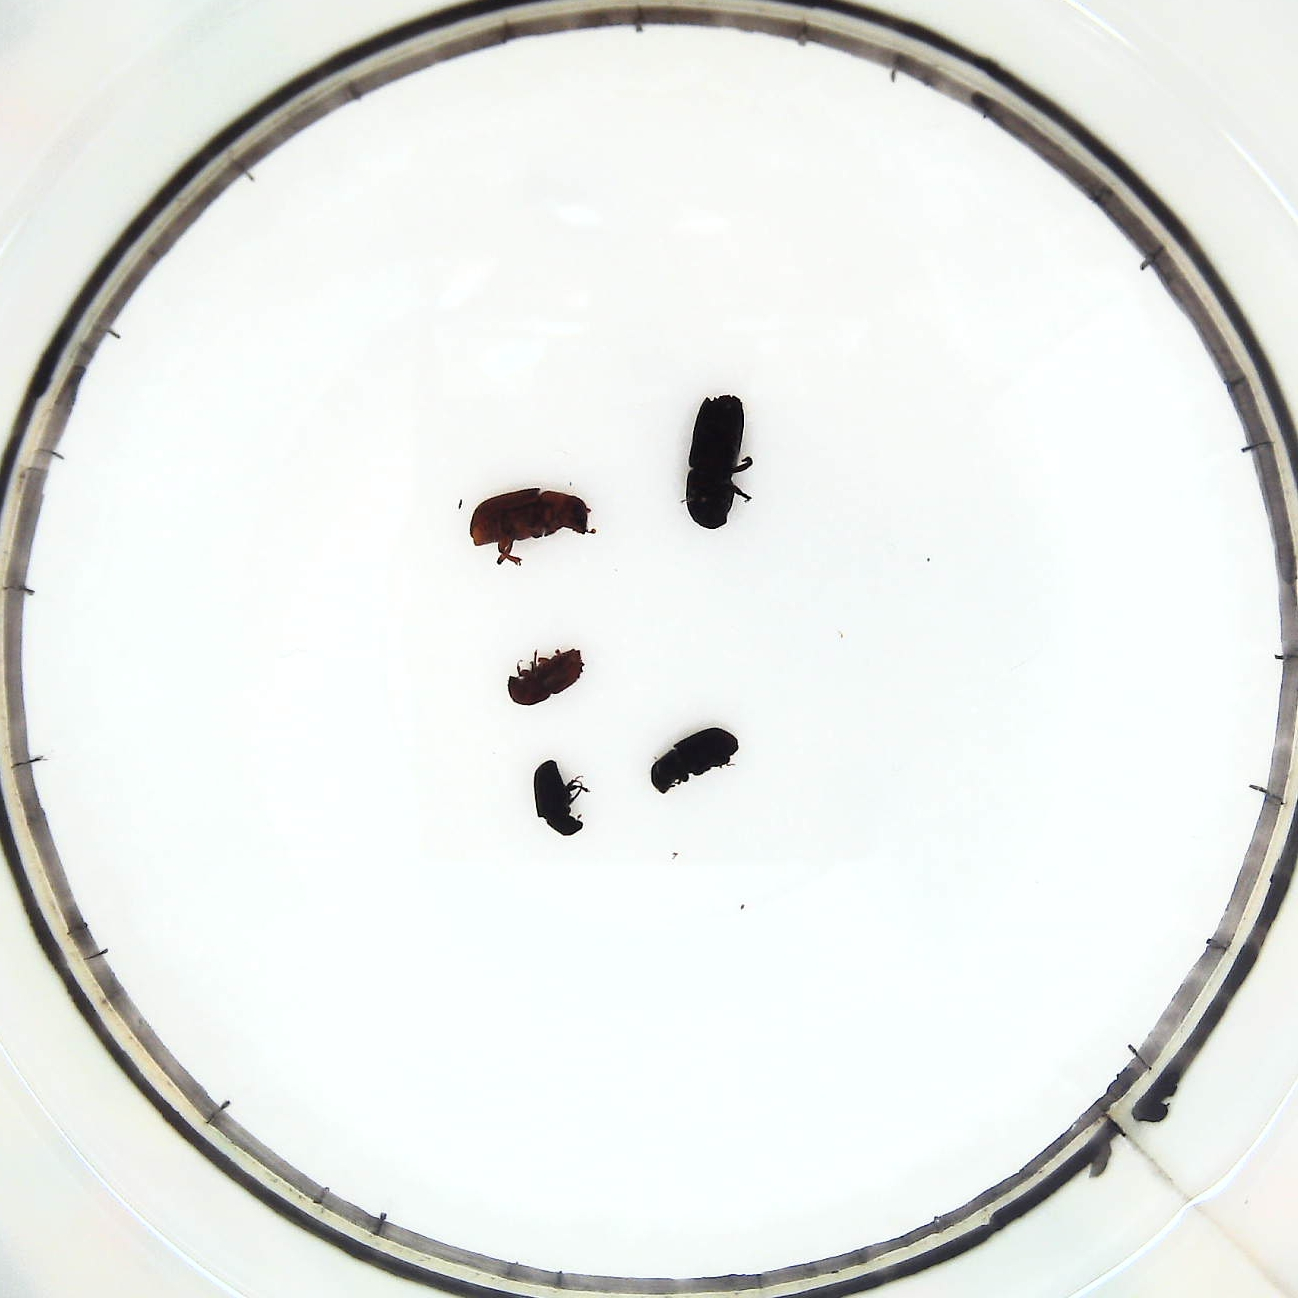Boerner: (683, 387, 760, 536)
Leconte: (464, 485, 598, 568)
armandi: (647, 724, 742, 795)
coleoptera: (530, 752, 598, 844)
linnaeus: (506, 644, 590, 708)
